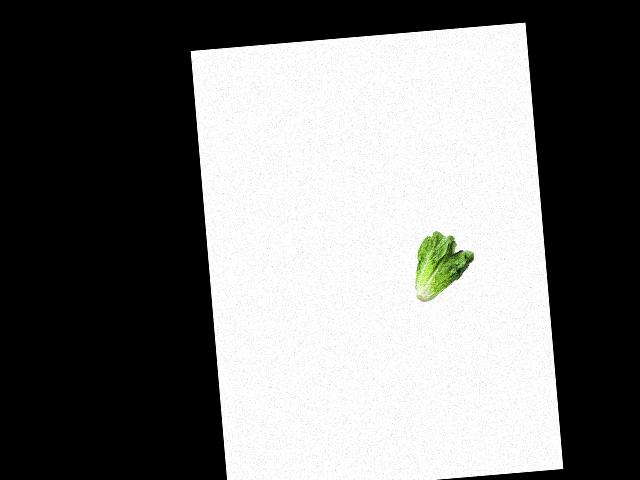lettuce: (407, 228, 480, 300)
